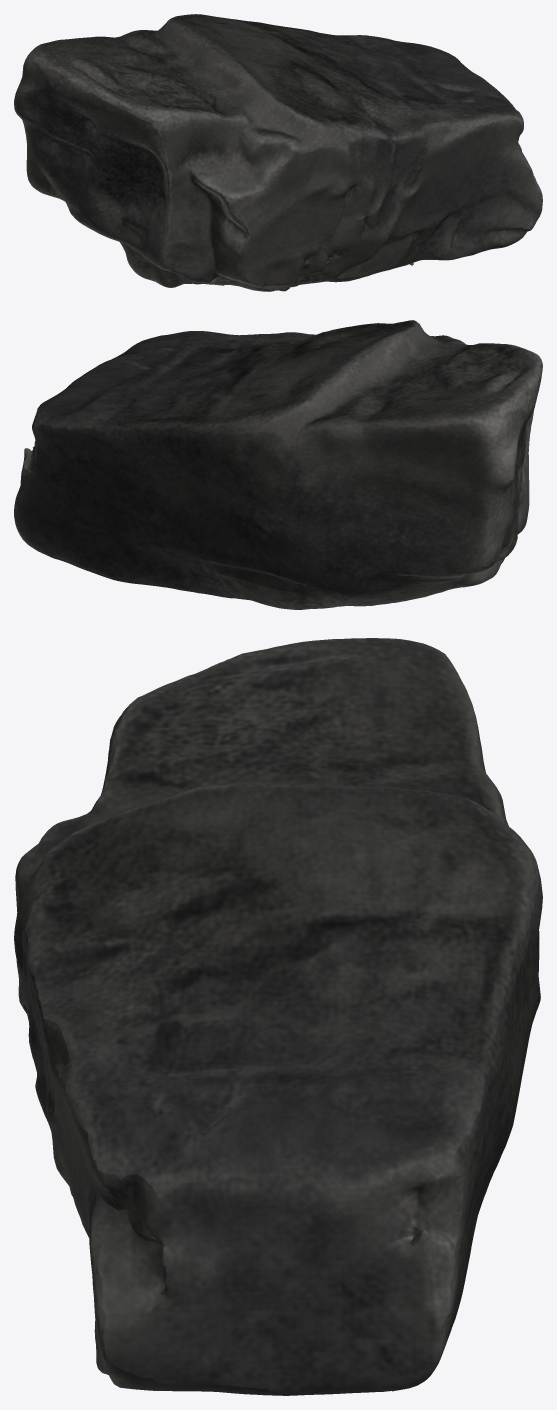
The picture shows the model from 3 angles, top to bottom: view 1: azimuth 30°, elevation 25°; view 2: azimuth 150°, elevation 25°; view 3: azimuth 270°, elevation 25°; orthographic projection. The views are drawn at different scales.
Parts seen in each view (by area): view 1: world; view 2: world; view 3: world.
Part boxes in pixels (bbox=[...]): world: bbox=[14, 14, 542, 291]; world: bbox=[14, 320, 542, 609]; world: bbox=[14, 638, 542, 1395].
Bounding box in the file's own units: 3.5 × 1.75 × 2.05.
Materials: 1 (1 with a texture image).
